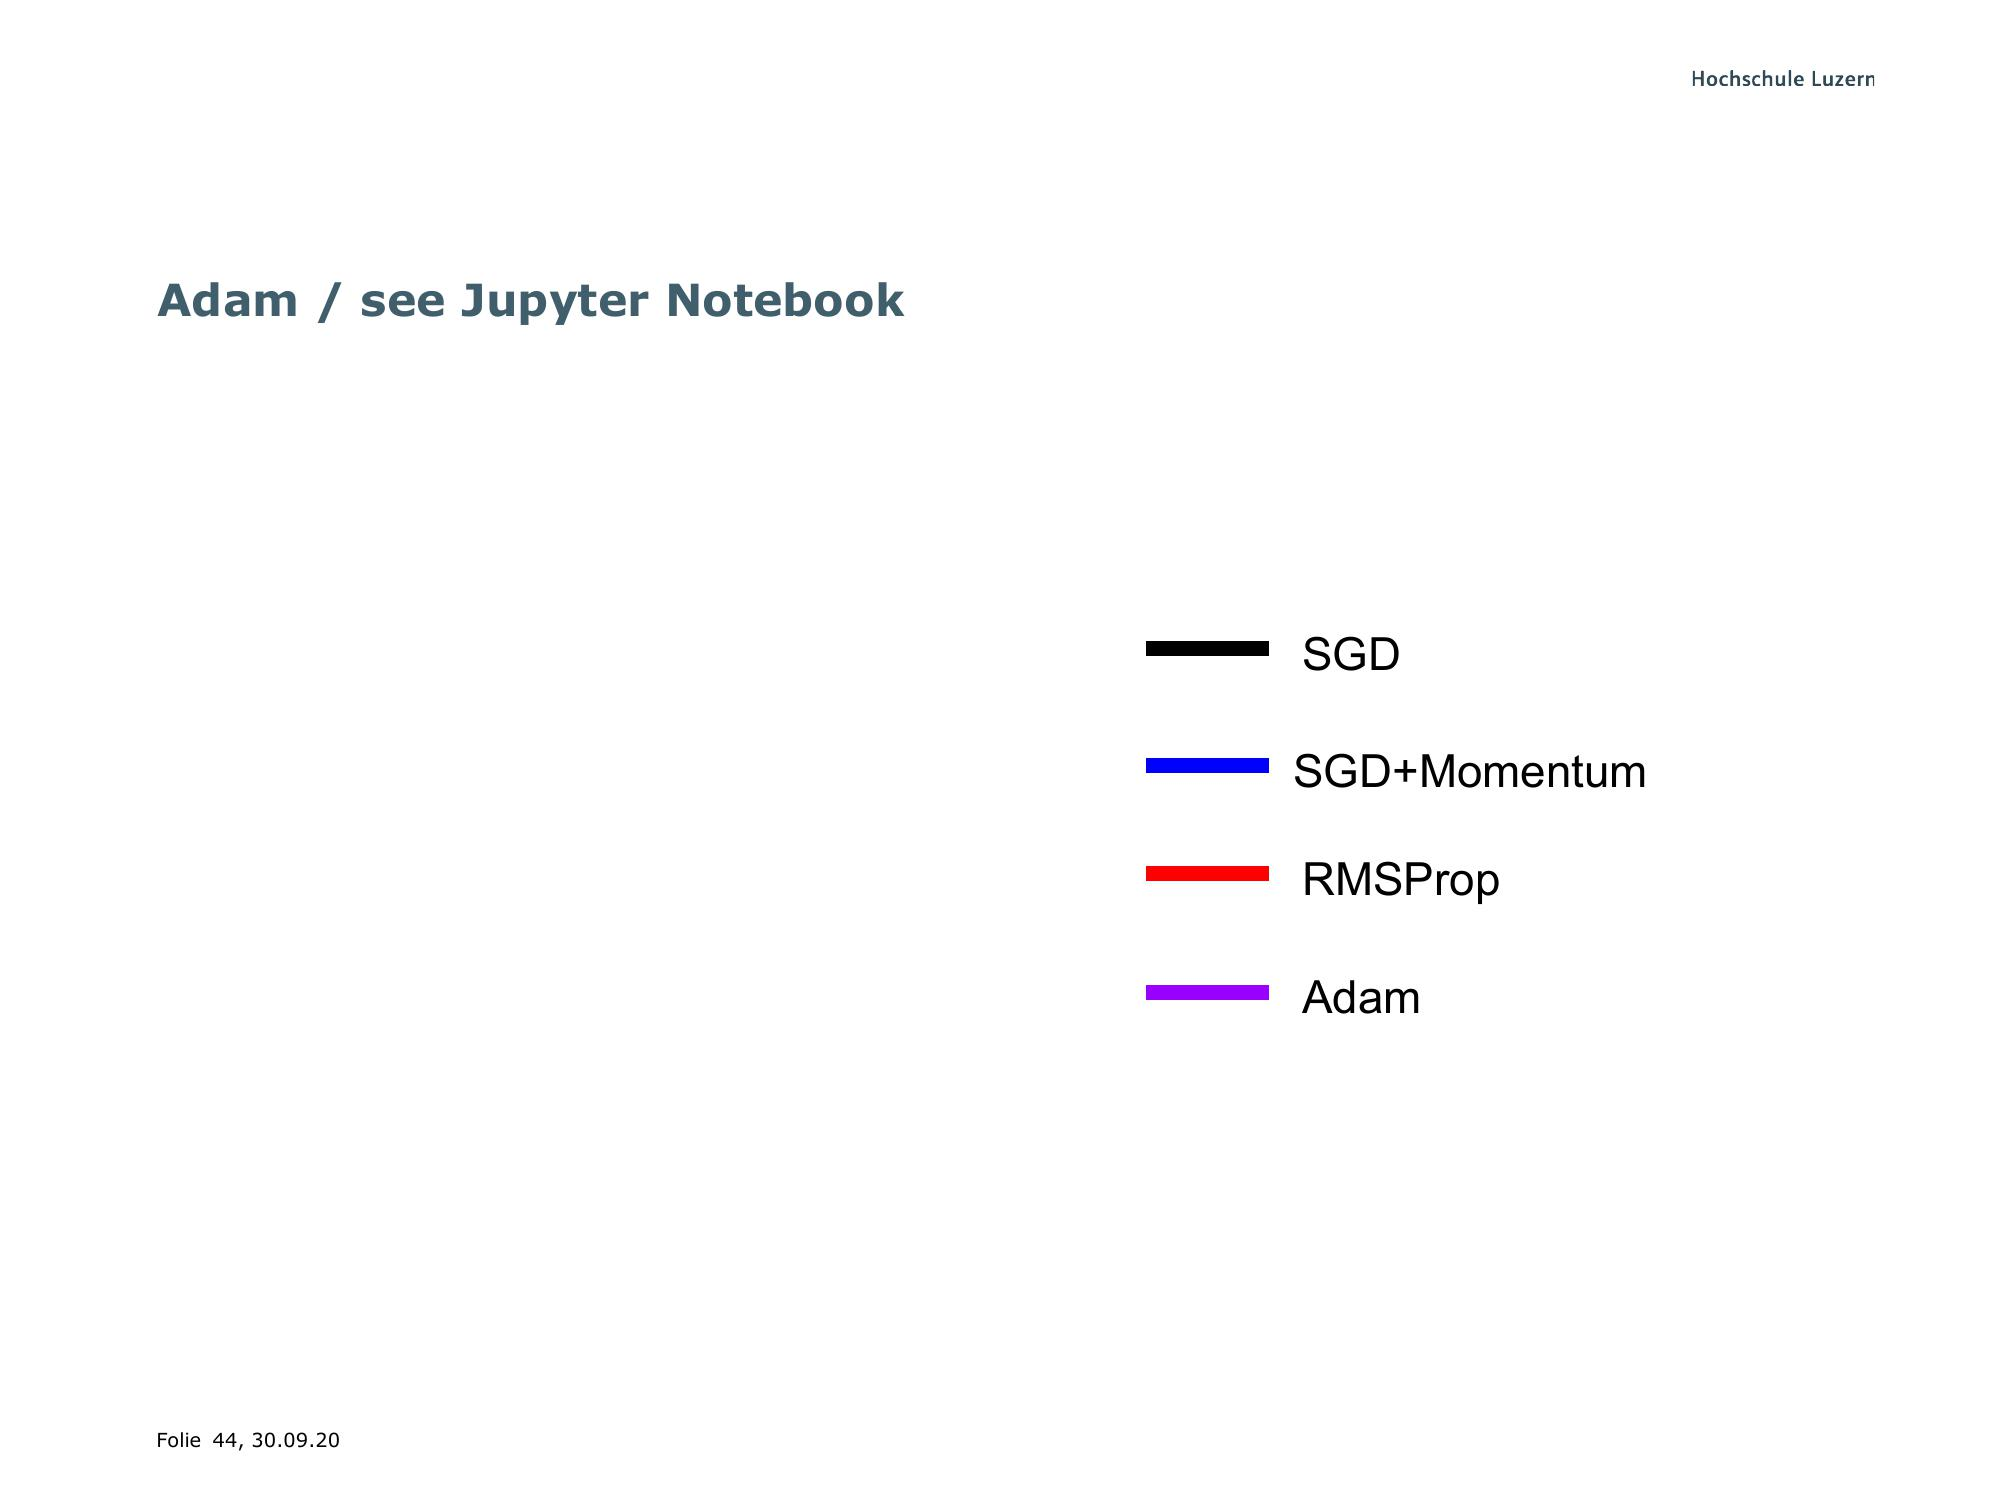Title: (146, 265, 915, 331)
